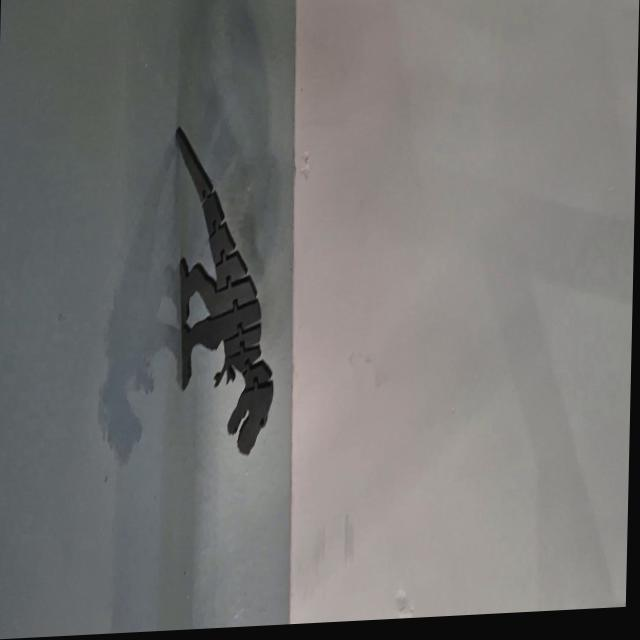dino: (167, 120, 280, 462)
